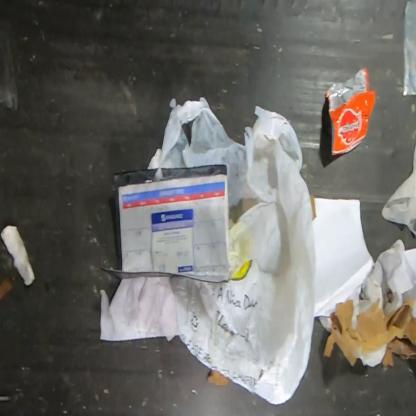cardboard: (323, 297, 415, 371)
rigid_plastic: (403, 3, 415, 96)
soft_plastic: (160, 97, 316, 406), (100, 166, 231, 282), (325, 67, 377, 156)
